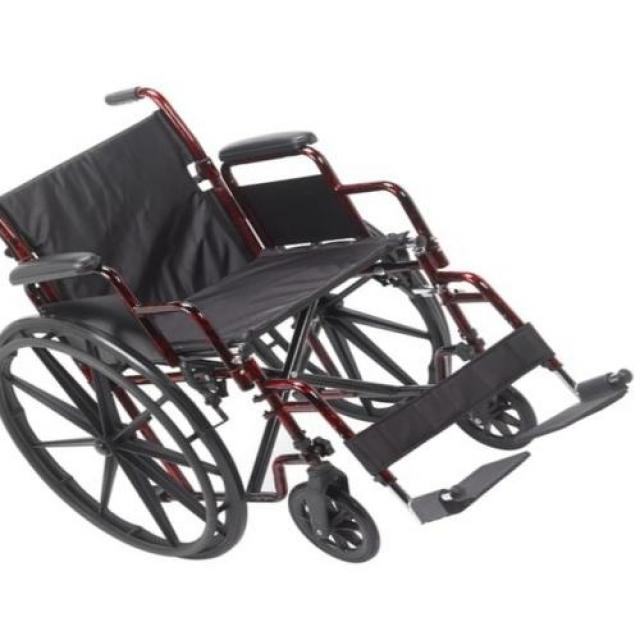wheelchair: (2, 79, 632, 576)
